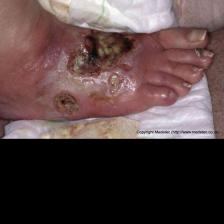Wound: (66, 23, 145, 78), (46, 87, 90, 115), (105, 71, 126, 99)
